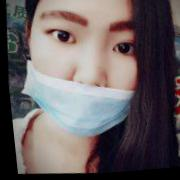WRONG: (21, 1, 153, 146)
